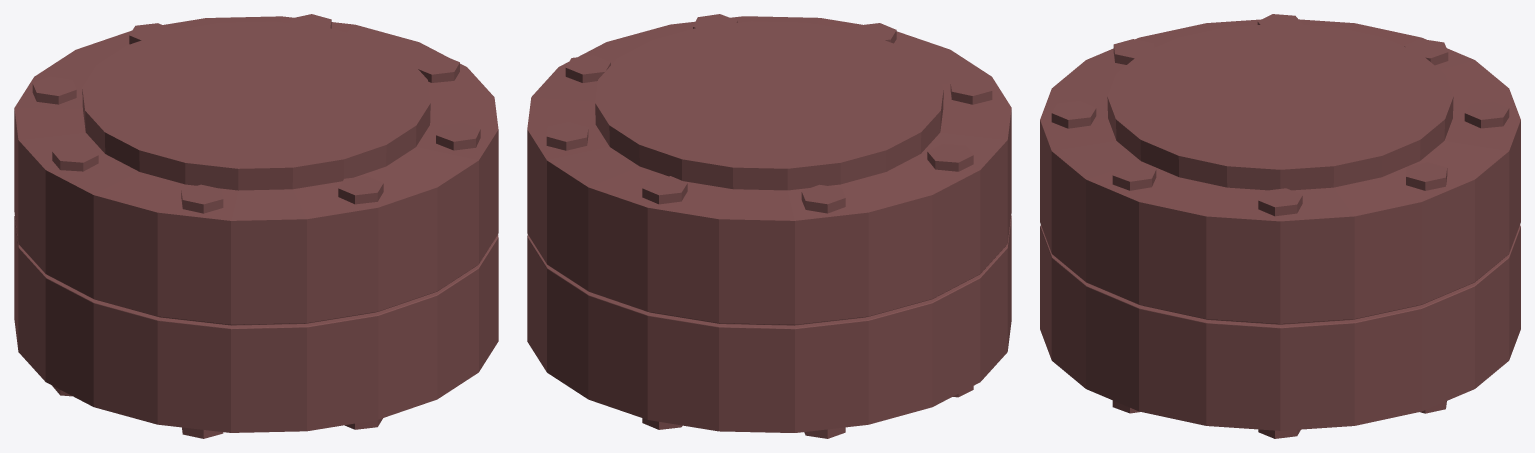
Rendered from SM_PipeConnector1.fbx.
The picture shows the model from 3 angles, left to right: view 1: azimuth 30°, elevation 25°; view 2: azimuth 150°, elevation 25°; view 3: azimuth 270°, elevation 25°; orthographic projection.
Visible parts, largest first — view 1: SM_PipeConnector1; view 2: SM_PipeConnector1; view 3: SM_PipeConnector1.
Part boxes in pixels (x1,y1,x2,y2): SM_PipeConnector1: [14, 14, 498, 438]; SM_PipeConnector1: [527, 14, 1011, 438]; SM_PipeConnector1: [1040, 14, 1520, 438].
Size of the model in its own units: 16.53 by 9.49 by 16.53.
